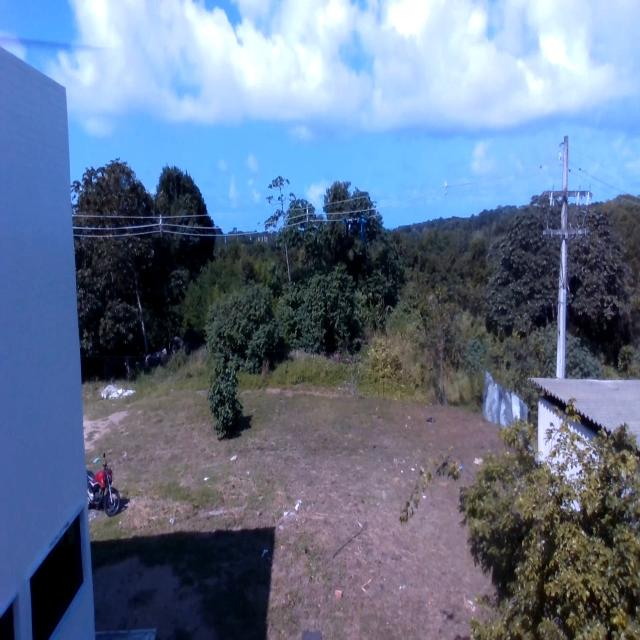-uav-: (339, 213, 375, 250)
